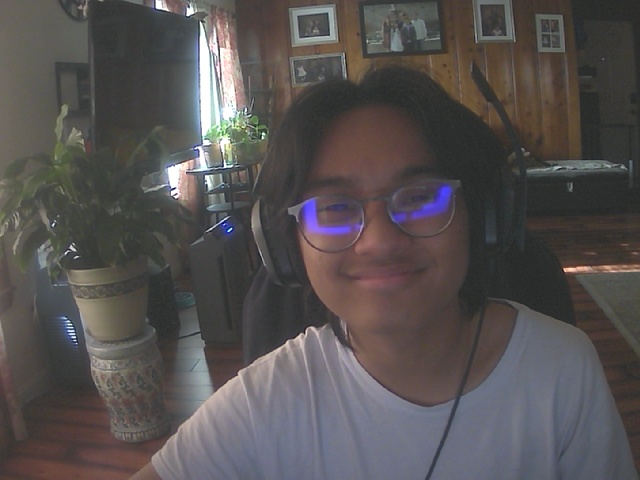happy: (287, 100, 474, 334)
